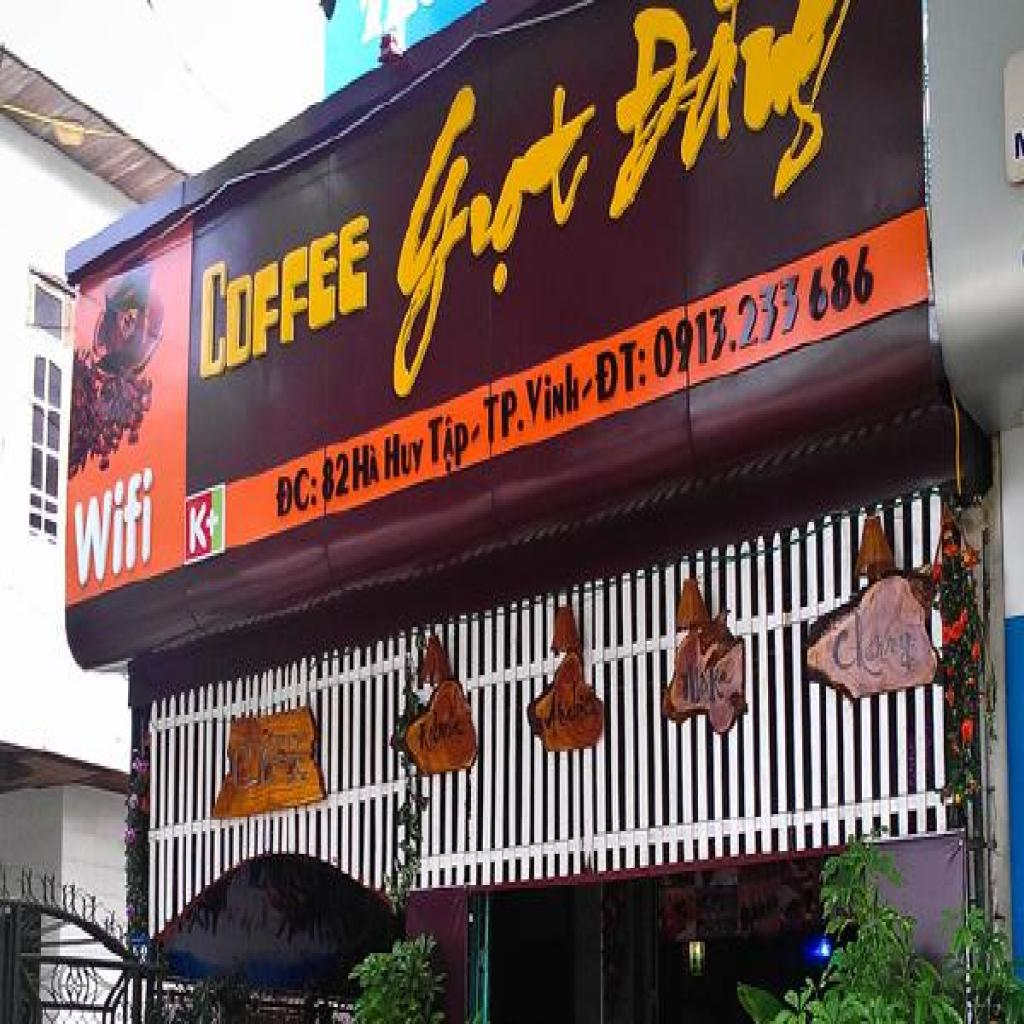text: (379, 25, 604, 420), (599, 0, 855, 238), (652, 236, 881, 392), (200, 190, 372, 389), (68, 460, 157, 602), (522, 352, 586, 431), (592, 332, 650, 411), (425, 406, 473, 485), (273, 454, 321, 528), (481, 380, 529, 451), (382, 422, 428, 490), (184, 494, 224, 562), (321, 445, 351, 508), (352, 437, 382, 496), (582, 372, 596, 406), (471, 417, 485, 448)
